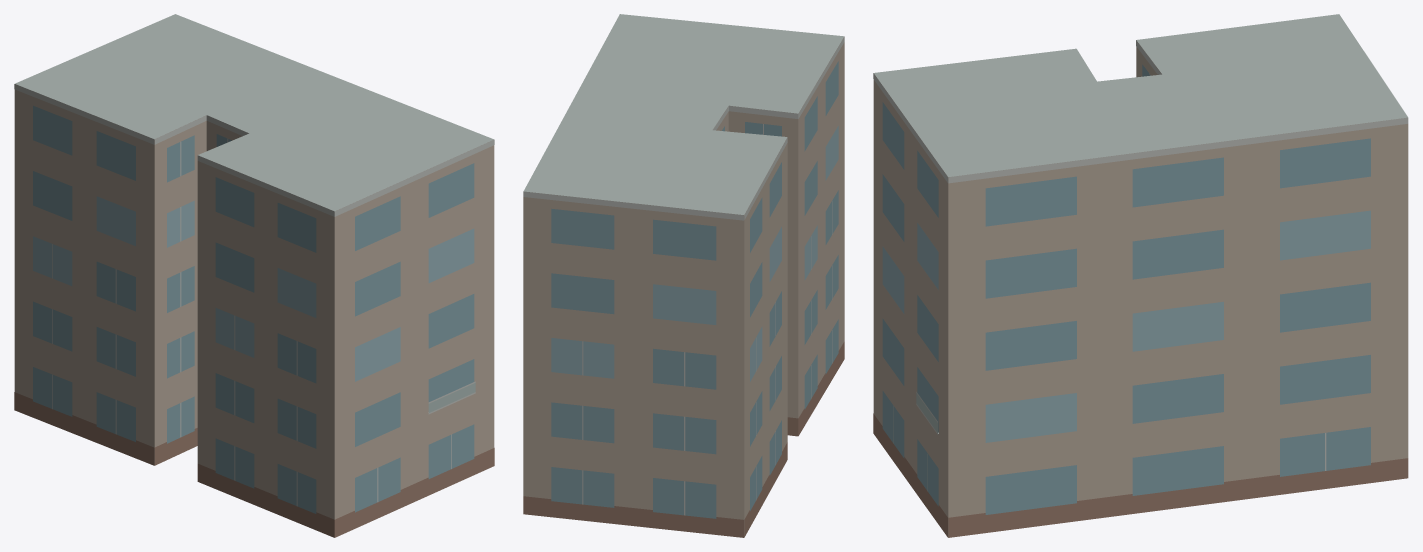
File: survey-upis-33037300.glb
3 views of the same model, side by side, from view 1: azimuth 30°, elevation 25°; view 2: azimuth 150°, elevation 25°; view 3: azimuth 270°, elevation 25° (orthographic). The views are drawn at different scales.
Visible parts, largest first — view 1: survey-upis-33037300.tmp; view 2: survey-upis-33037300.tmp; view 3: survey-upis-33037300.tmp.
Part boxes in pixels (x1,y1,x2,y2): survey-upis-33037300.tmp: (14,14,494,537); survey-upis-33037300.tmp: (523,14,844,537); survey-upis-33037300.tmp: (873,14,1408,537).
Size of the model in its own units: 13.79 by 14.2 by 19.09.
